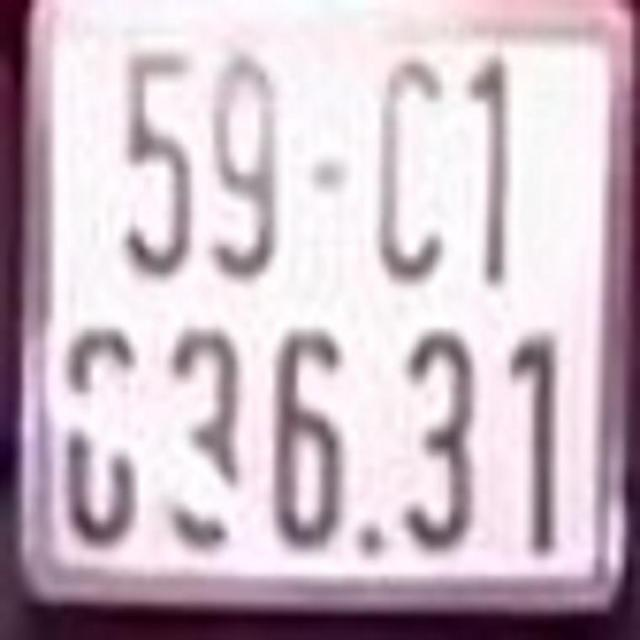1: (502, 320, 568, 559), (462, 42, 524, 293)
3: (163, 317, 245, 548), (395, 320, 475, 554)
5: (114, 40, 194, 283)
6: (270, 320, 350, 547)
9: (206, 48, 284, 283)
C: (370, 50, 450, 287)
